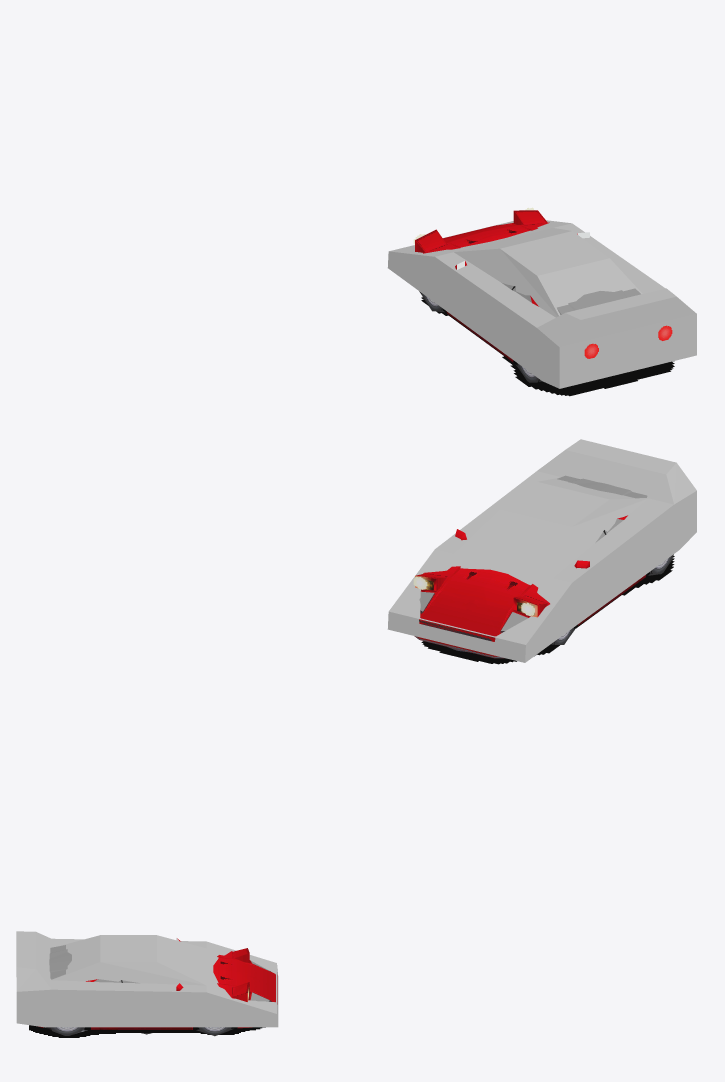
3 views of the same model, one above another, from view 1: azimuth 30°, elevation 25°; view 2: azimuth 150°, elevation 25°; view 3: azimuth 270°, elevation 25° (orthographic). The views are drawn at different scales.
Parts seen in each view (by area): view 1: rc-f40; view 2: rc-f40; view 3: rc-f40.
Boxes of the visible parts, x1,y1,x2,y2 form: rc-f40: (387,207,696,396); rc-f40: (387,439,696,664); rc-f40: (16,931,278,1037).
Size of the model in its own units: 4.6 by 1.51 by 11.56.
Materials: 21 (17 with a texture image).
